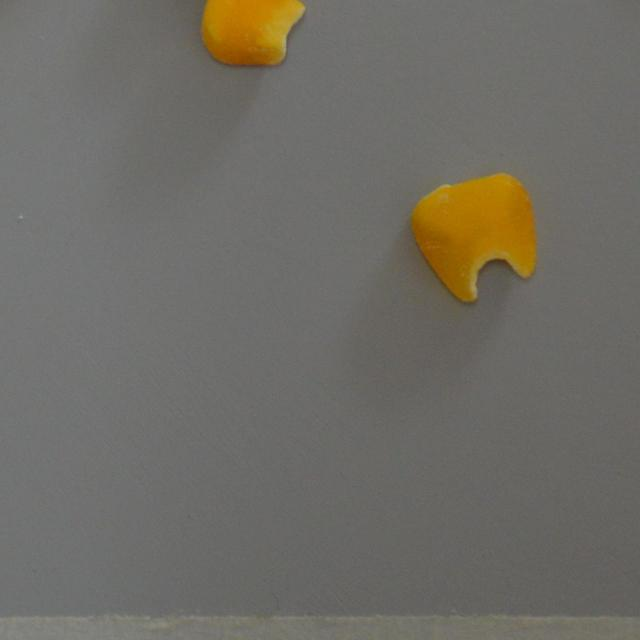no_canjicado: (408, 172, 536, 302), (200, 0, 305, 65)
